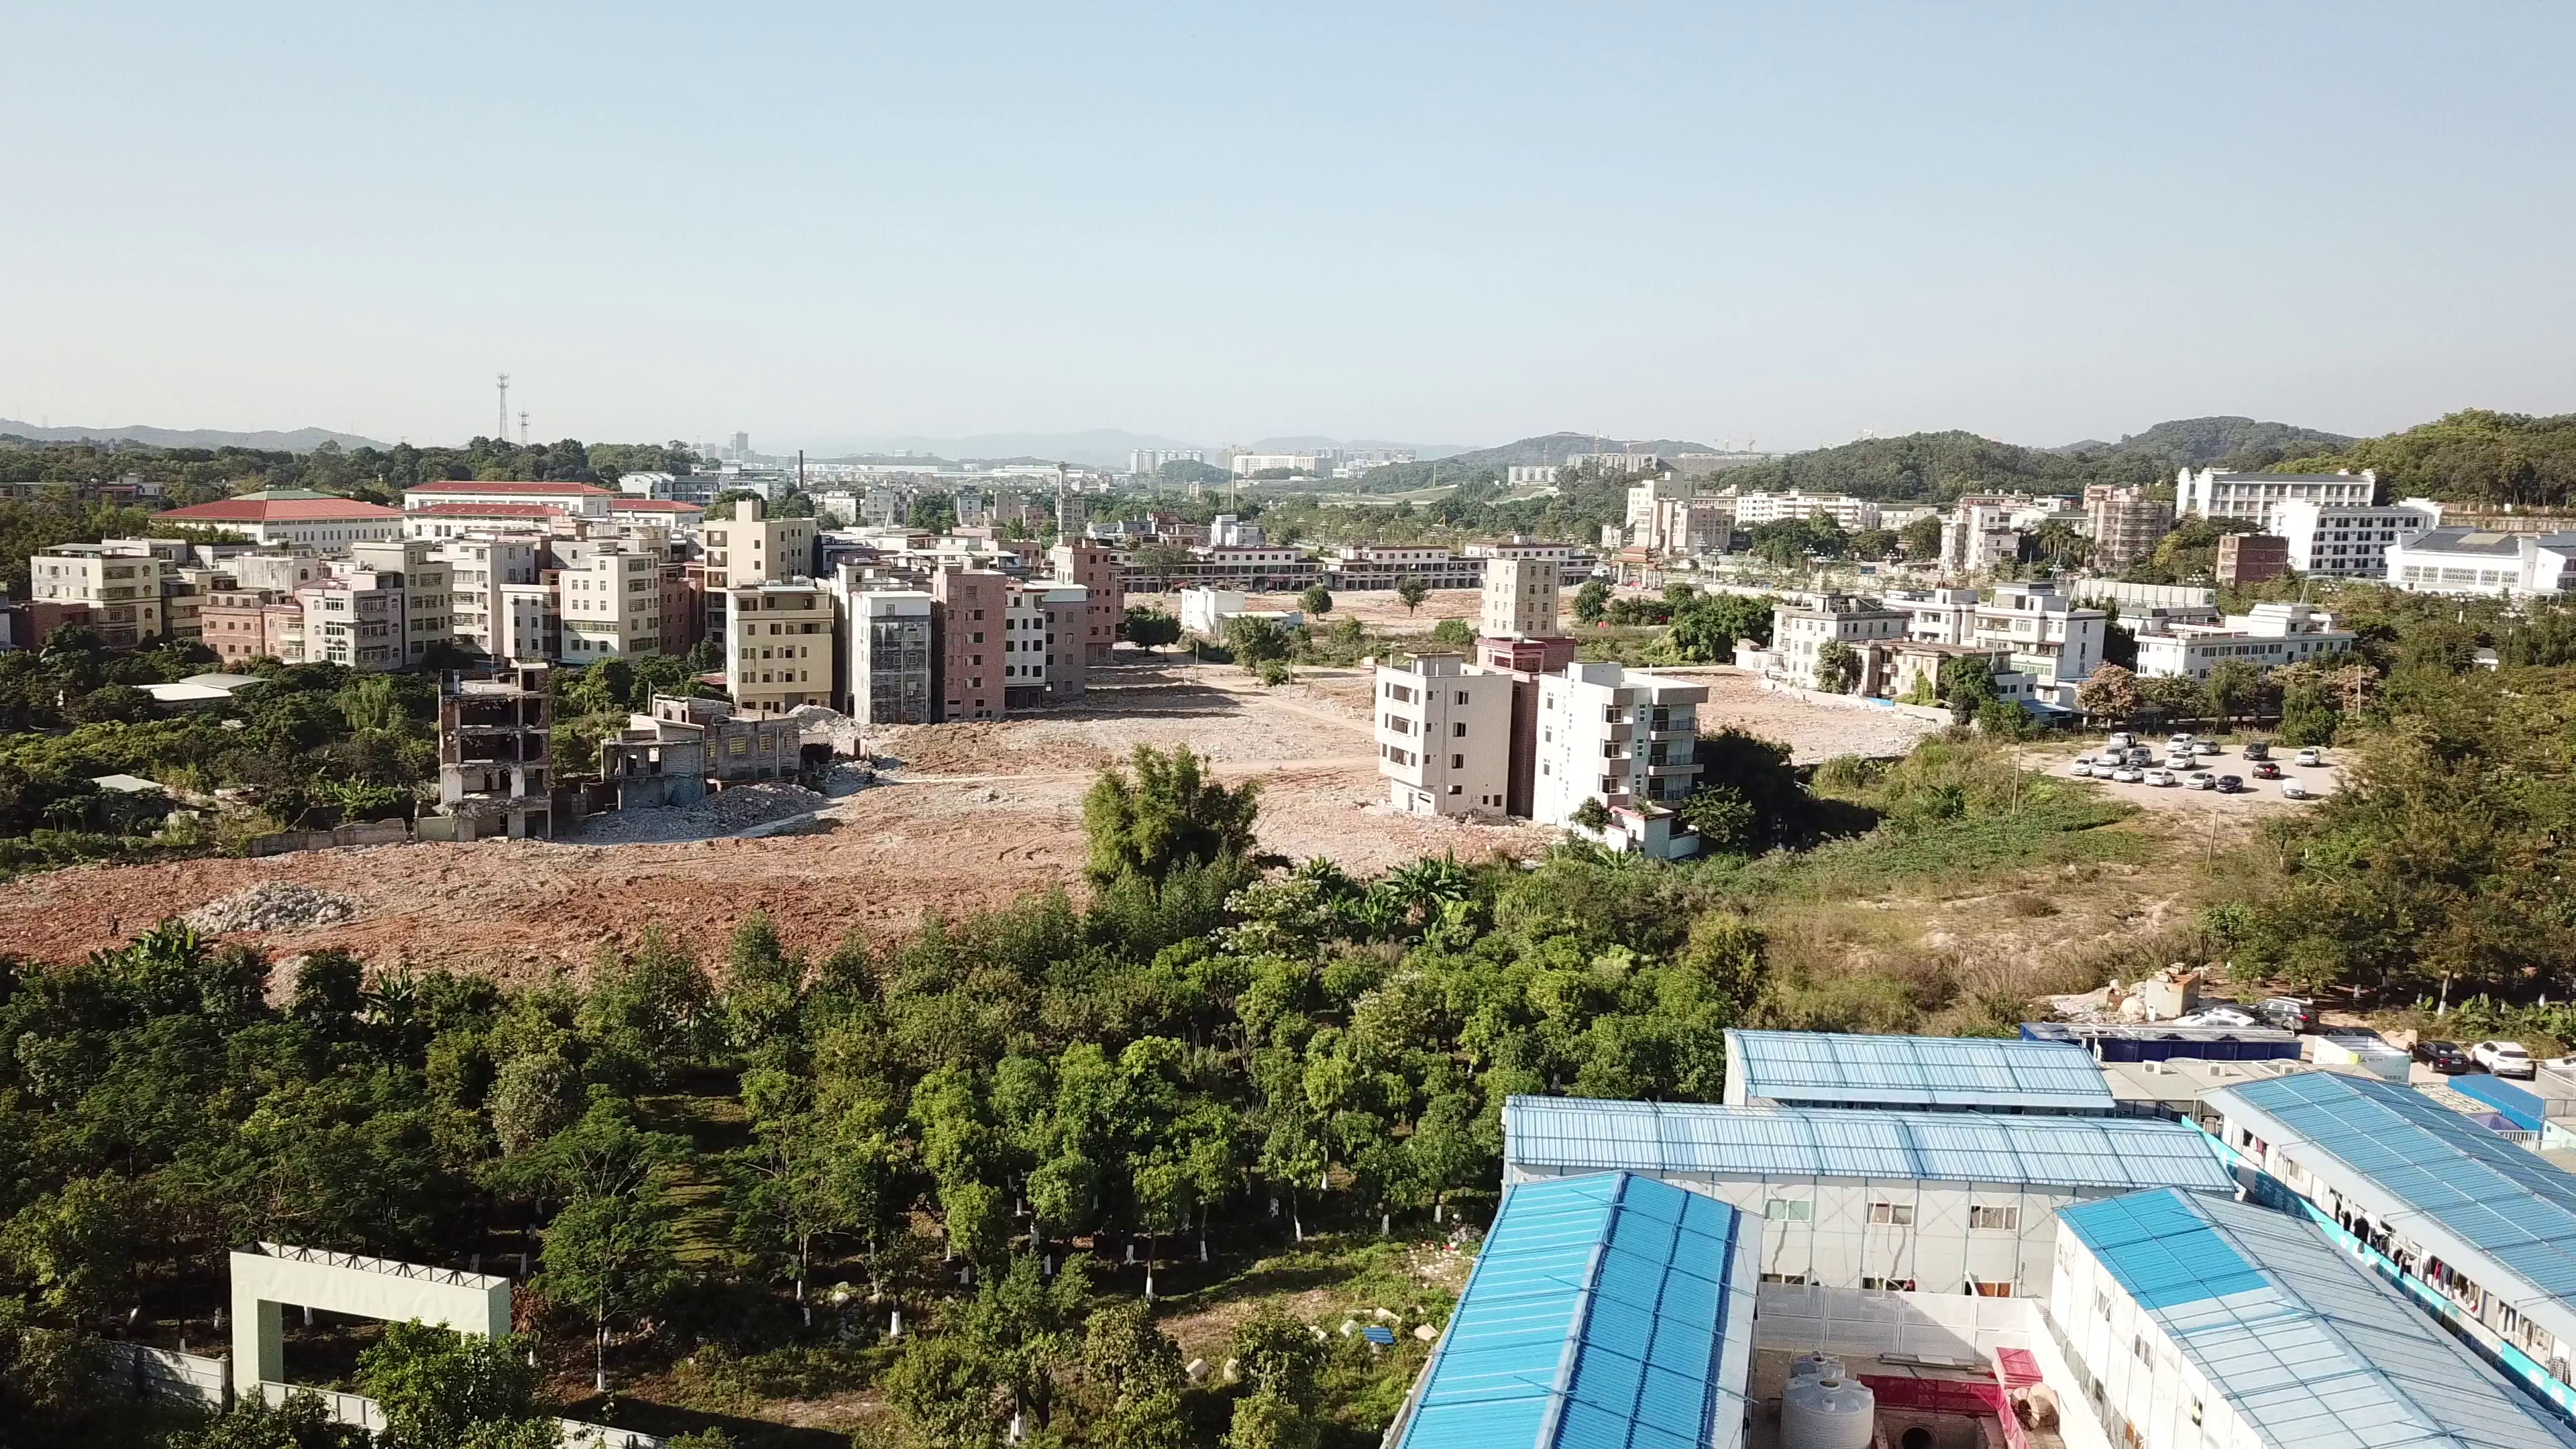slogan: (2341, 1238, 2457, 1327), (2220, 1145, 2325, 1230), (2518, 1357, 2576, 1421)
